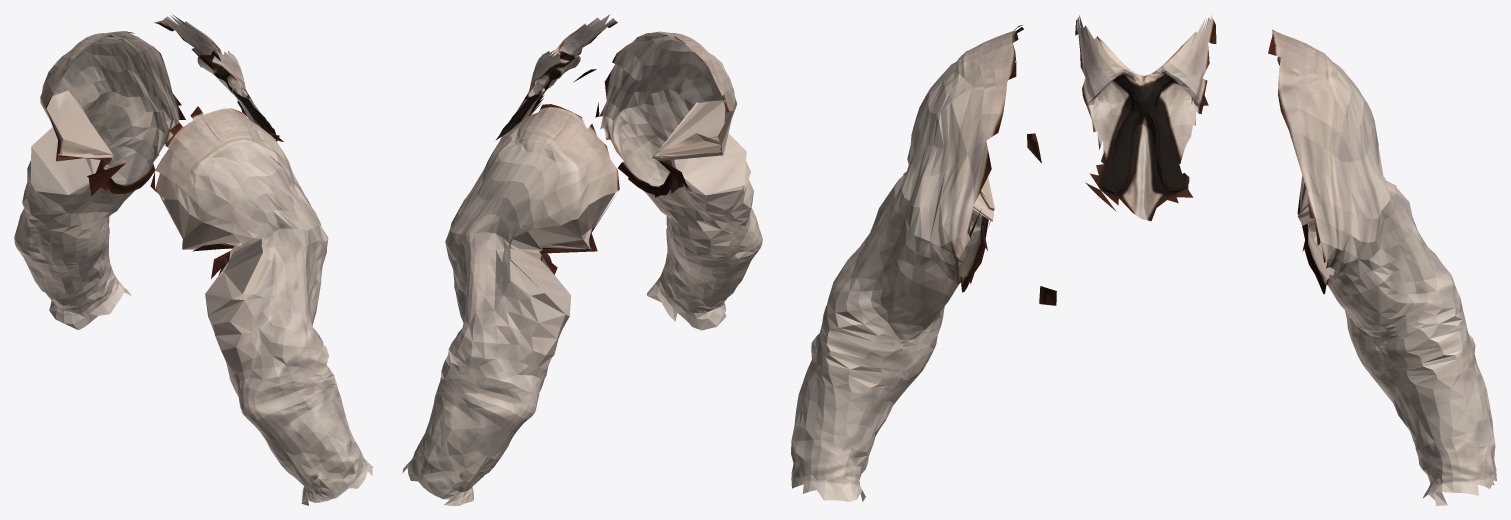
File: bold_cowboy_under_shirt.glb
3 renders of one model, left to right at view 1: azimuth 30°, elevation 25°; view 2: azimuth 150°, elevation 25°; view 3: azimuth 270°, elevation 25°, orthographic. The views are drawn at different scales.
Parts seen in each view (by area): view 1: shirt; view 2: shirt; view 3: shirt.
Part boxes in pixels (<box>): shirt: <box>14,14,372,505</box>; shirt: <box>402,14,762,505</box>; shirt: <box>791,15,1496,505</box>.
Size of the model in its own units: 0.1652 by 0.3679 by 0.4852.
1 material, 1 textured.
